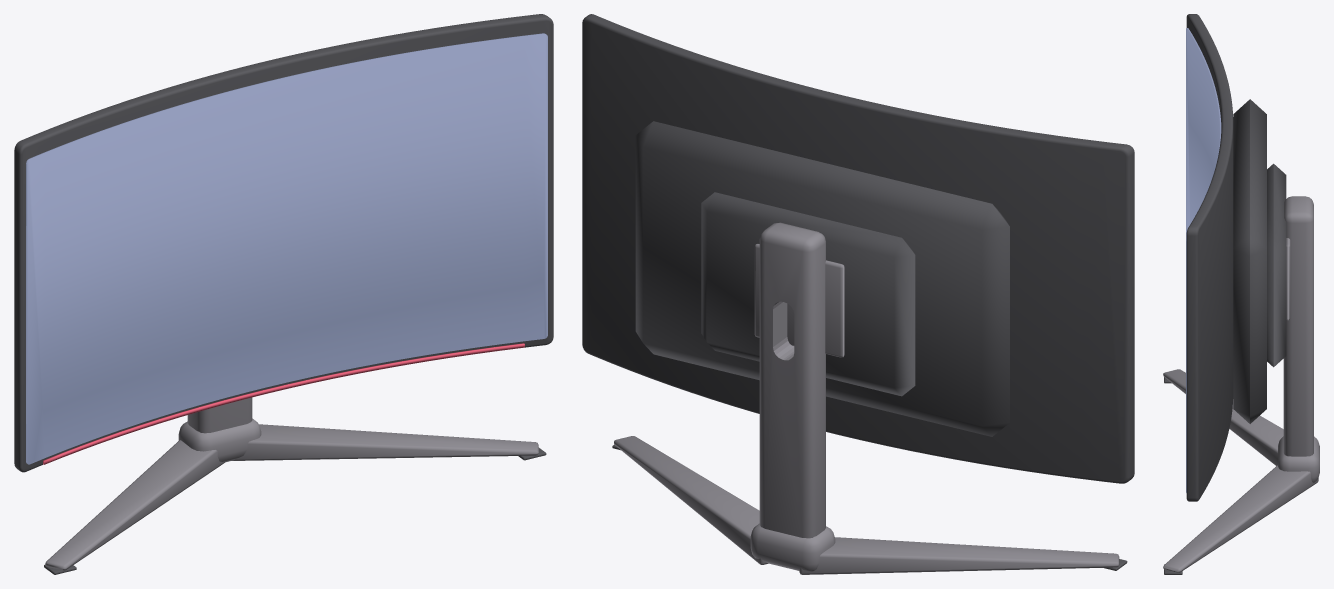
Rendered from monitor-curved.glb.
3 views of the same model, side by side, from view 1: azimuth 30°, elevation 25°; view 2: azimuth 150°, elevation 25°; view 3: azimuth 270°, elevation 25° (orthographic). The views are drawn at different scales.
Parts seen in each view (by area): view 1: monitor-curved; view 2: monitor-curved; view 3: monitor-curved.
Boxes of the visible parts, <box> form: monitor-curved: <box>14,14,553,574</box>; monitor-curved: <box>582,14,1134,574</box>; monitor-curved: <box>1163,14,1319,574</box>.
Size of the model in its own units: 0.614 by 0.465 by 0.1866.
